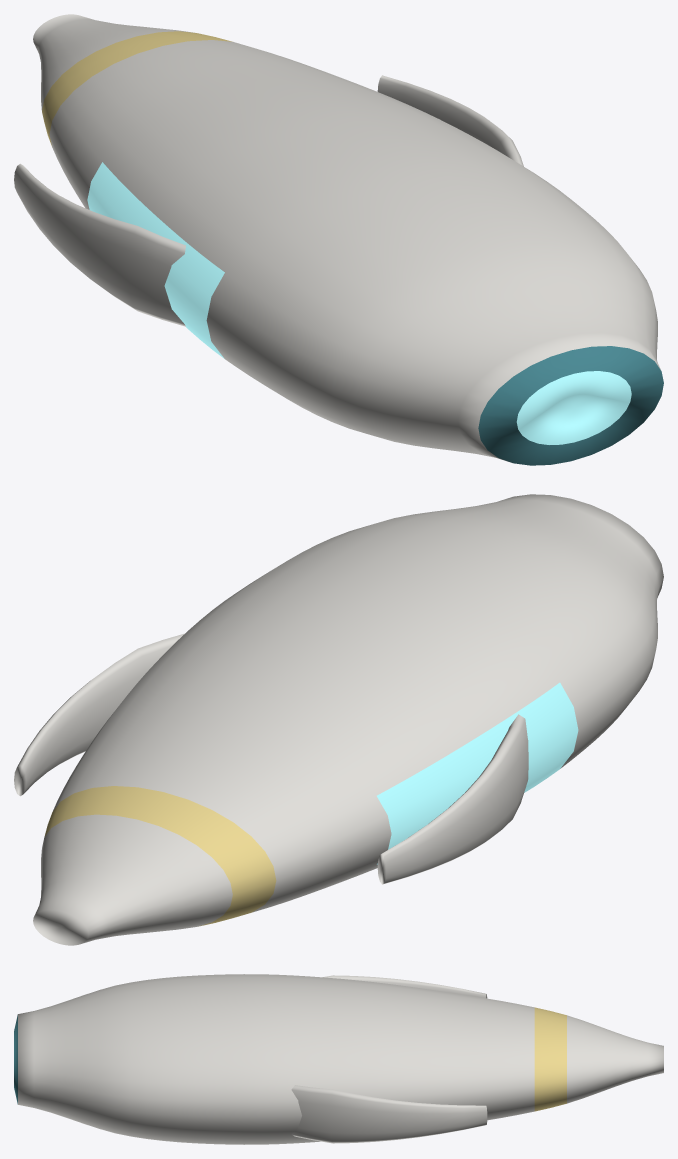
File: aelith_ff.glb
3 renders of one model, top to bottom at view 1: azimuth 30°, elevation 25°; view 2: azimuth 150°, elevation 25°; view 3: azimuth 270°, elevation 25°, orthographic. The views are drawn at different scales.
Parts seen in each view (by area): view 1: hull_mesh, limb_0_mesh, limb_0_port_mesh; view 2: hull_mesh, limb_0_mesh, limb_0_port_mesh; view 3: hull_mesh, limb_0_port_mesh, limb_0_mesh.
Part boxes in pixels (left/top/right/bottom): hull_mesh: left=33, top=14, right=663, bottom=465; limb_0_mesh: left=14, top=163, right=185, bottom=326; limb_0_port_mesh: left=377, top=75, right=523, bottom=166; hull_mesh: left=33, top=494, right=663, bottom=945; limb_0_mesh: left=377, top=714, right=528, bottom=884; limb_0_port_mesh: left=14, top=633, right=184, bottom=796; hull_mesh: left=14, top=974, right=663, bottom=1144; limb_0_port_mesh: left=291, top=1085, right=487, bottom=1143; limb_0_mesh: left=323, top=975, right=487, bottom=998.
Size of the model in its own units: 26.06 by 12.12 by 56.34.
